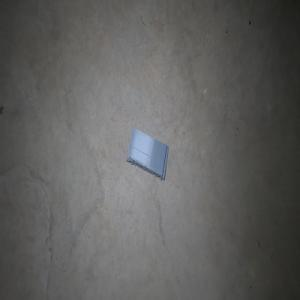PlasticPart: (125, 127, 168, 181)
